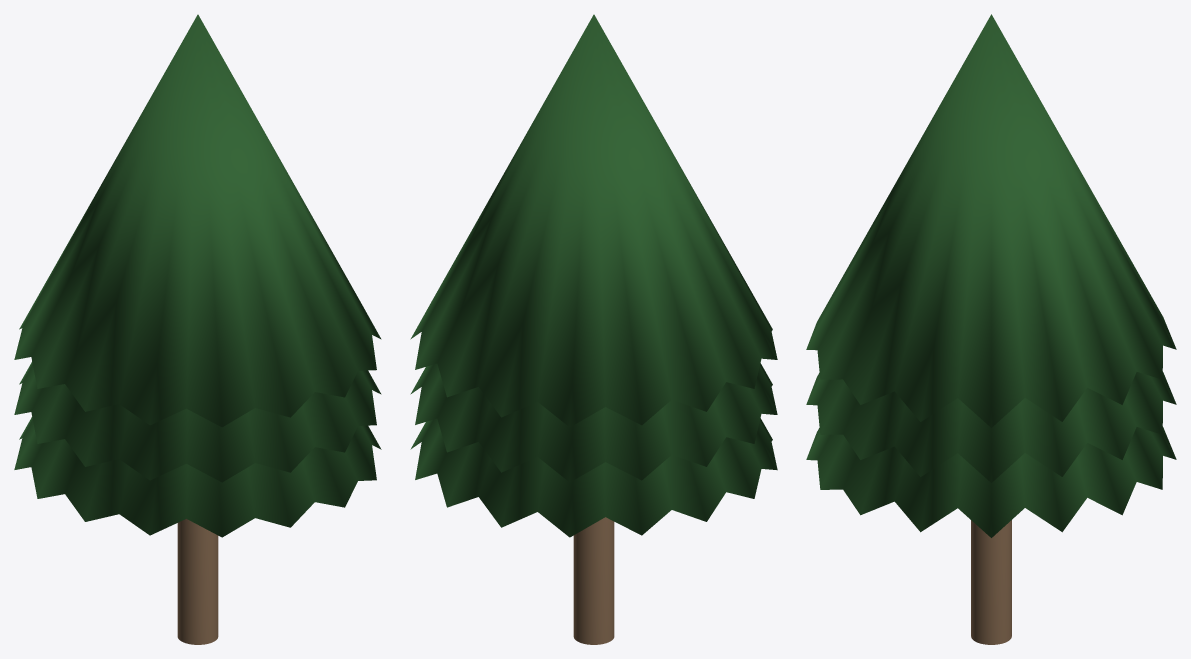
The model's file is City Trees.glb.
3 renders of one model, left to right at view 1: azimuth 30°, elevation 25°; view 2: azimuth 150°, elevation 25°; view 3: azimuth 270°, elevation 25°, orthographic.
Parts seen in each view (by area): view 1: Cone.015, Cone.014, Cone.013, Cylinder.003; view 2: Cone.015, Cone.013, Cone.014, Cylinder.003; view 3: Cone.015, Cone.014, Cone.013, Cylinder.003.
Boxes of the visible parts, <box> form: Cone.015: <box>14,14,381,427</box>; Cone.014: <box>14,361,381,482</box>; Cone.013: <box>14,417,381,537</box>; Cylinder.003: <box>177,519,218,644</box>; Cone.015: <box>410,14,777,427</box>; Cone.013: <box>410,418,777,537</box>; Cone.014: <box>410,363,777,482</box>; Cylinder.003: <box>573,517,614,644</box>; Cone.015: <box>806,14,1176,427</box>; Cone.014: <box>806,371,1176,482</box>; Cone.013: <box>806,426,1176,537</box>; Cylinder.003: <box>971,520,1011,644</box>.
Size of the model in its own units: 2 by 3.71 by 2.
